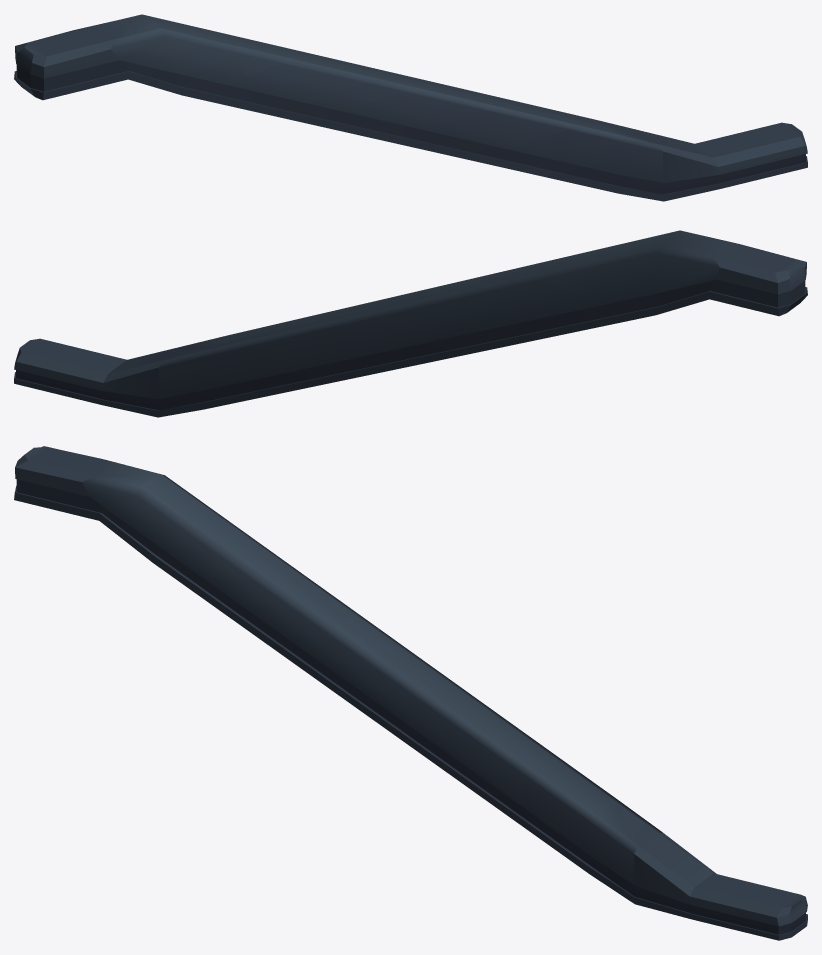
File: Modular_Dungeon_Railing_Full_Plain.fbx
The picture shows the model from 3 angles, top to bottom: view 1: azimuth 30°, elevation 25°; view 2: azimuth 150°, elevation 25°; view 3: azimuth 330°, elevation 25°; orthographic projection.
Visible parts, largest first — view 1: Railing_Full_Plain; view 2: Railing_Full_Plain; view 3: Railing_Full_Plain.
Boxes of the visible parts, box(x1,y1,x2,y2) form: Railing_Full_Plain: box(14, 14, 807, 201); Railing_Full_Plain: box(14, 230, 807, 417); Railing_Full_Plain: box(14, 446, 807, 940).
Size of the model in its own units: 16.09 by 5.81 by 1.04.
1 material, 1 textured.
